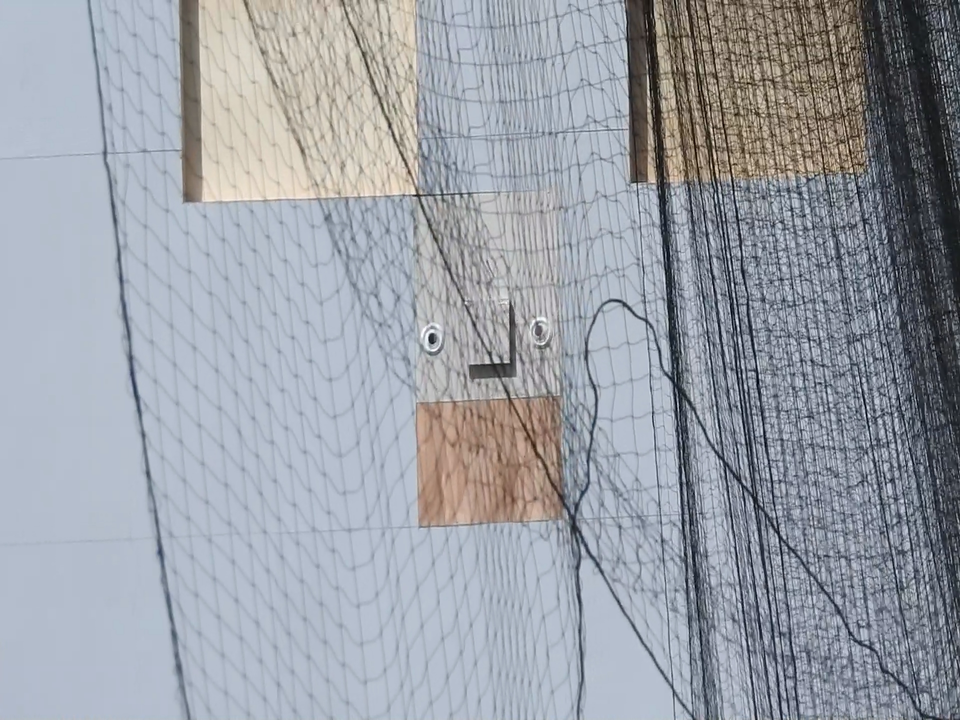facade: (419, 298, 550, 369)
